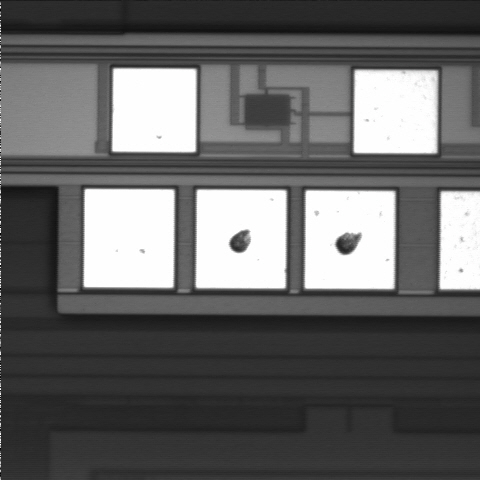pad: (84, 189, 174, 288), (196, 190, 286, 288), (305, 191, 395, 289), (112, 69, 196, 152), (354, 70, 437, 153)
